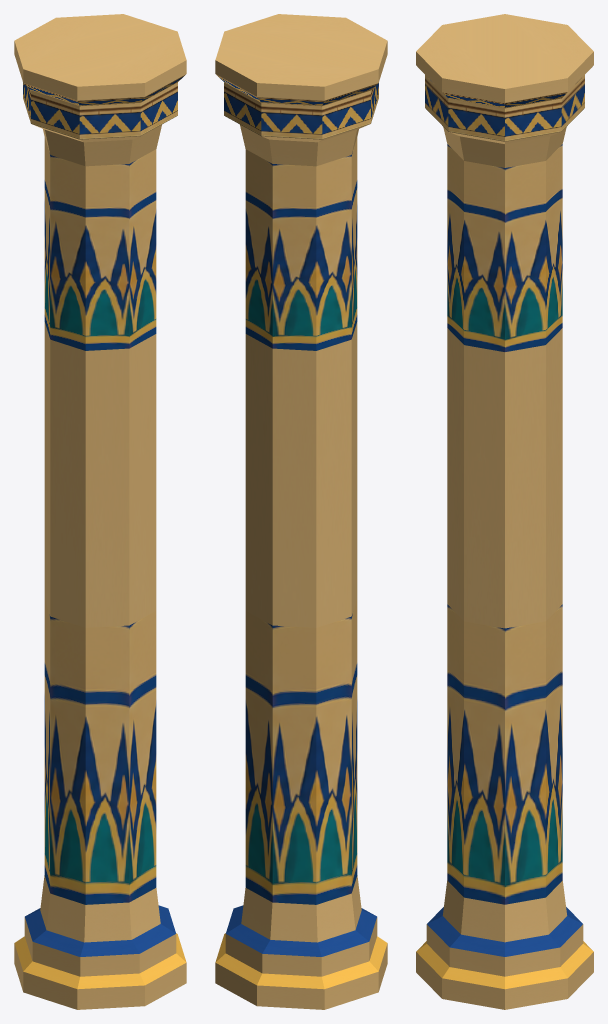
File: rc_column_8m.glb
The picture shows the model from 3 angles, left to right: view 1: azimuth 30°, elevation 25°; view 2: azimuth 150°, elevation 25°; view 3: azimuth 270°, elevation 25°; orthographic projection.
Parts seen in each view (by area): view 1: SM_RC_Column_8m; view 2: SM_RC_Column_8m; view 3: SM_RC_Column_8m.
Part boxes in pixels (bbox=[...]): SM_RC_Column_8m: bbox=[14, 14, 186, 1009]; SM_RC_Column_8m: bbox=[215, 14, 387, 1009]; SM_RC_Column_8m: bbox=[416, 14, 593, 1009].
Size of the model in its own units: 1.4 by 8 by 1.4.
1 material, 1 textured.
